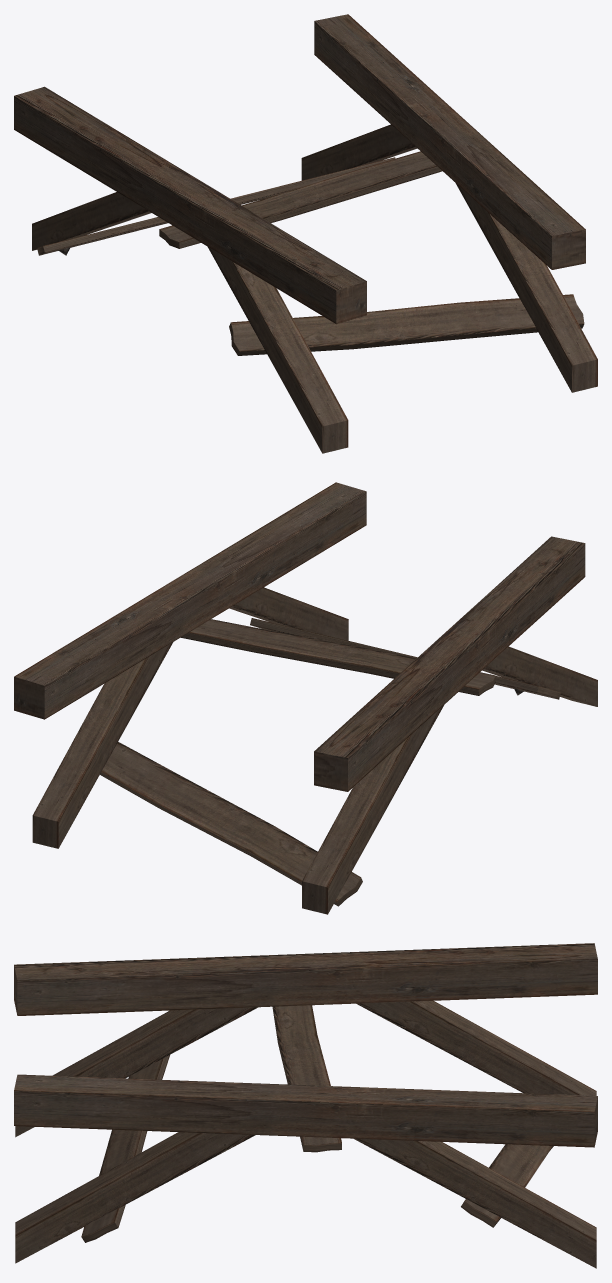
File: Scaffold.FBX
3 renders of one model, top to bottom at view 1: azimuth 30°, elevation 25°; view 2: azimuth 150°, elevation 25°; view 3: azimuth 270°, elevation 25°, orthographic. The views are drawn at different scales.
Parts seen in each view (by area): view 1: Scaffold; view 2: Scaffold; view 3: Scaffold.
Part boxes in pixels (x1=…): Scaffold: x1=14, y1=14, x2=597, y2=453; Scaffold: x1=14, y1=482, x2=597, y2=914; Scaffold: x1=14, y1=943, x2=597, y2=1268.
Size of the model in its own units: 515 by 236 by 752.
